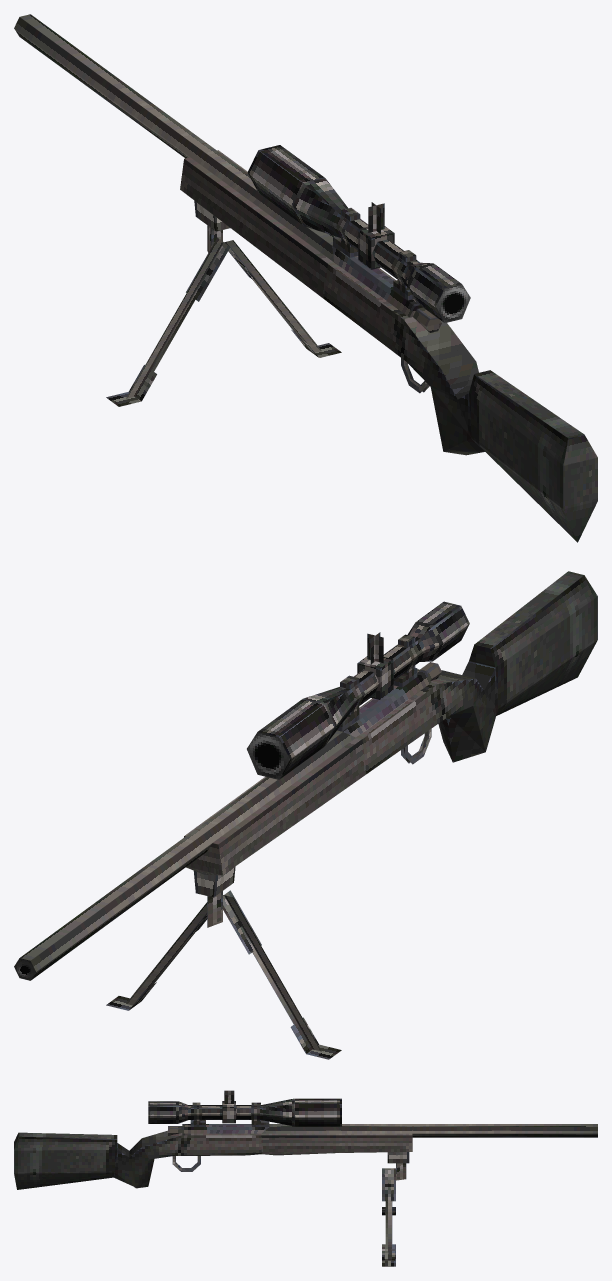
Rendered from recovered_gun_mcmillanm87.glb.
The picture shows the model from 3 angles, top to bottom: view 1: azimuth 30°, elevation 25°; view 2: azimuth 150°, elevation 25°; view 3: azimuth 270°, elevation 25°; orthographic projection. The views are drawn at different scales.
Visible parts, largest first — view 1: Gun_0755e9578fac, Gun_379f7b5fa02f; view 2: Gun_0755e9578fac, Gun_379f7b5fa02f; view 3: Gun_0755e9578fac.
Boxes of the visible parts, x1=… form: Gun_0755e9578fac: x1=14, y1=14, x2=597, y2=542; Gun_379f7b5fa02f: x1=436, y1=284, x2=470, y2=322; Gun_0755e9578fac: x1=20, y1=571, x2=597, y2=1059; Gun_379f7b5fa02f: x1=247, y1=732, x2=289, y2=779; Gun_0755e9578fac: x1=14, y1=1090, x2=597, y2=1266.
Size of the model in its own units: 0.2901 by 0.3489 by 1.25.
3 materials, 3 textured.
